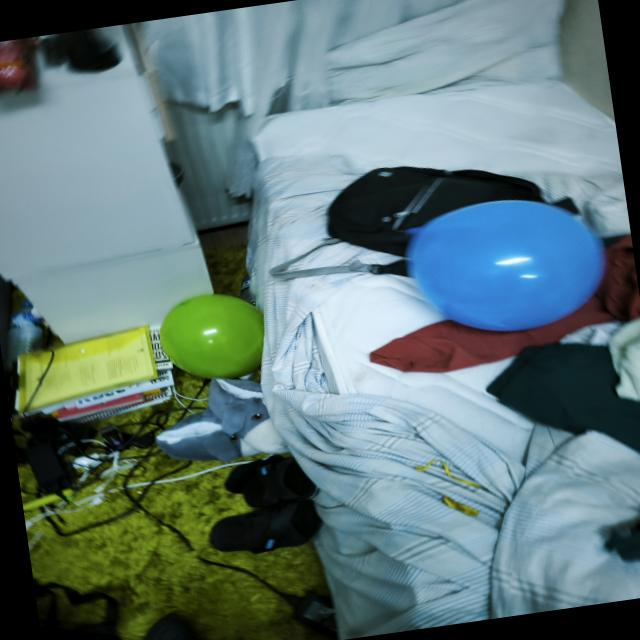balloon: (407, 201, 605, 331), (160, 294, 264, 379)
